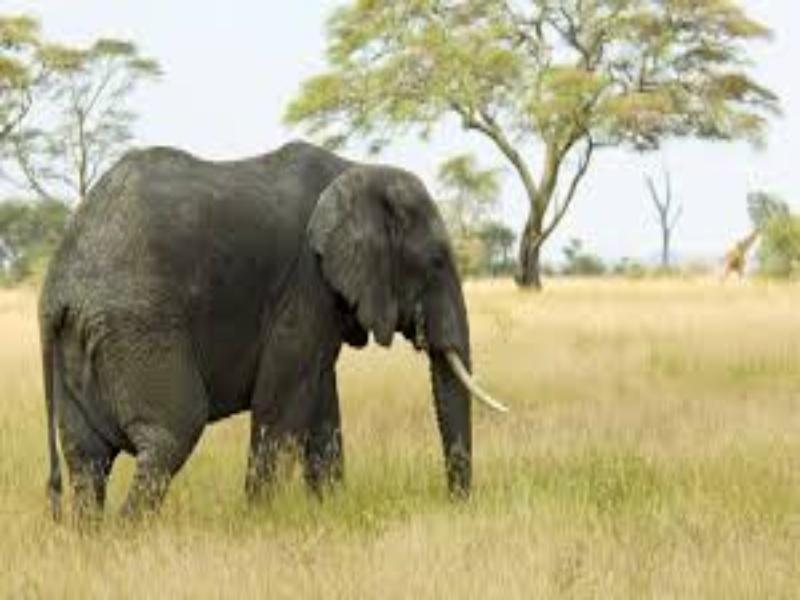elephant: (26, 135, 504, 516)
